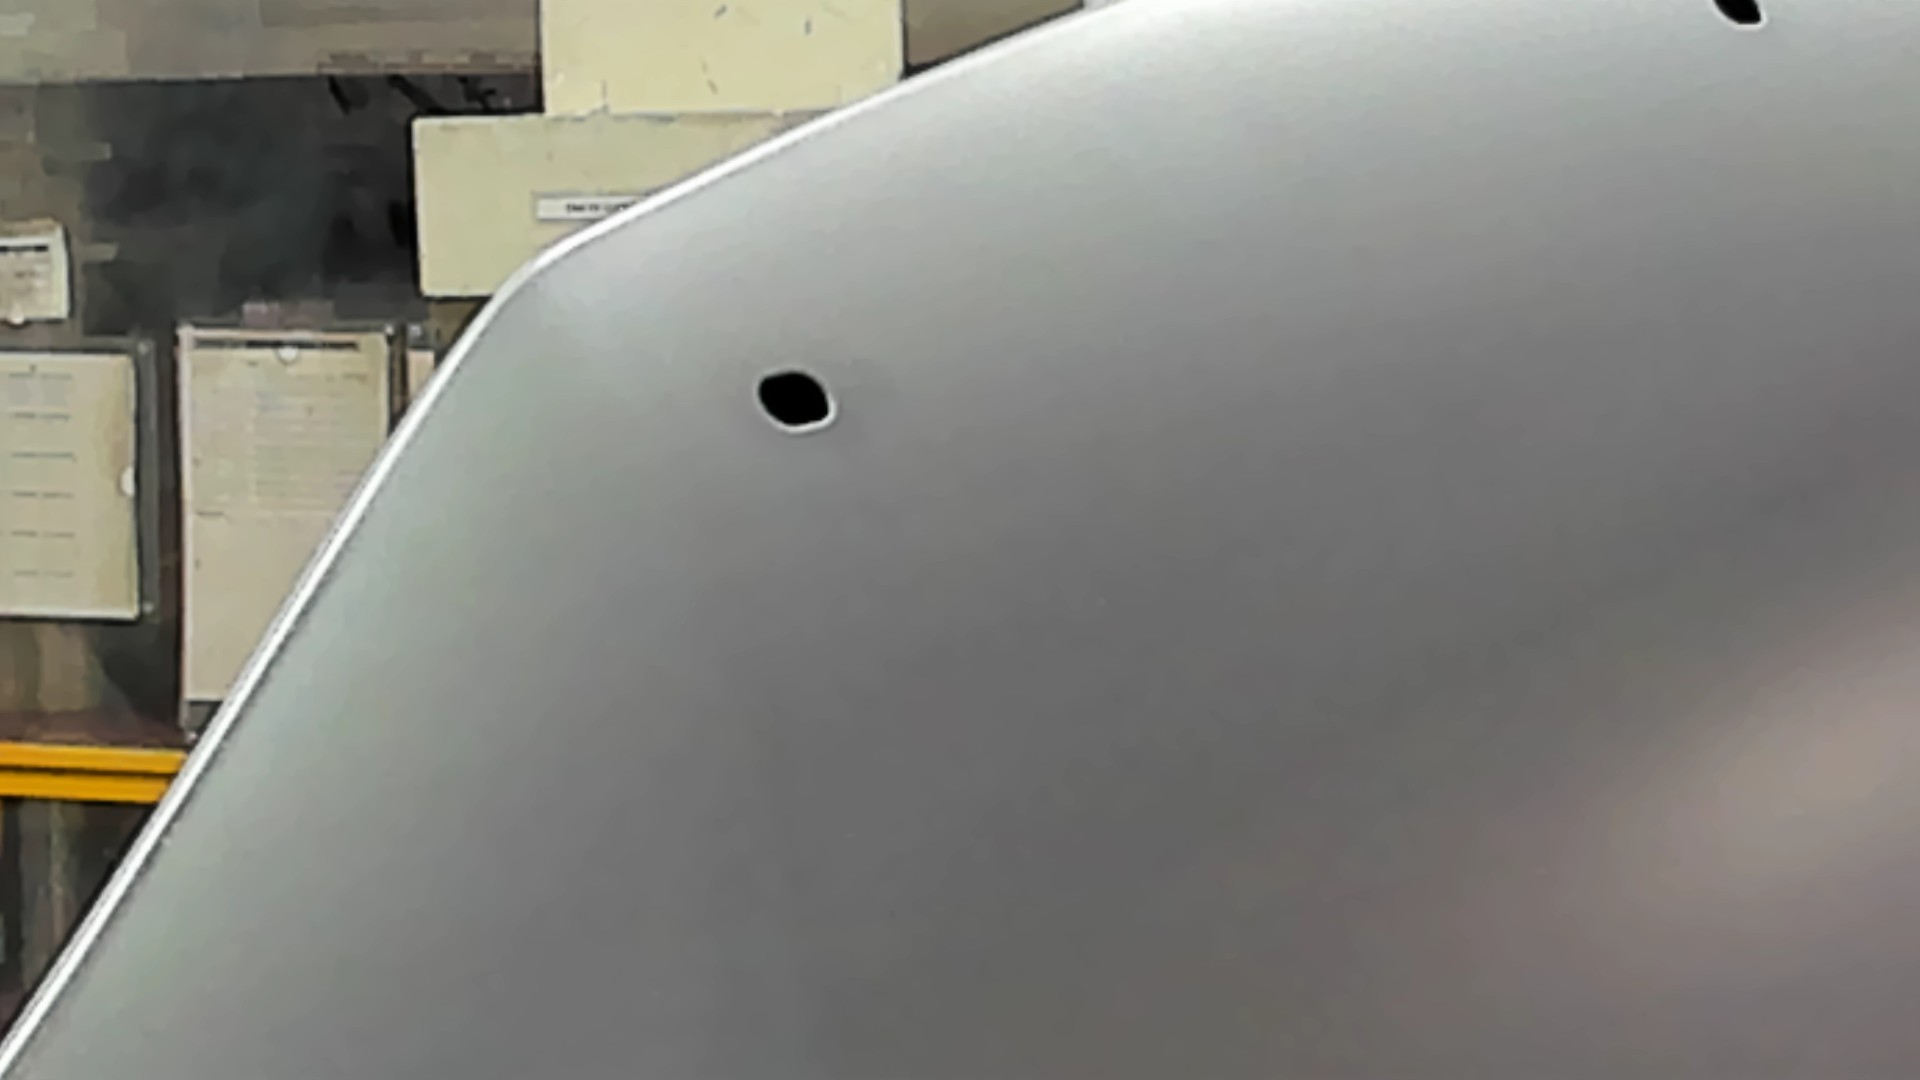amorfo: (746, 368, 837, 435), (1713, 1, 1779, 40)
capo: (915, 127, 1920, 1080)
